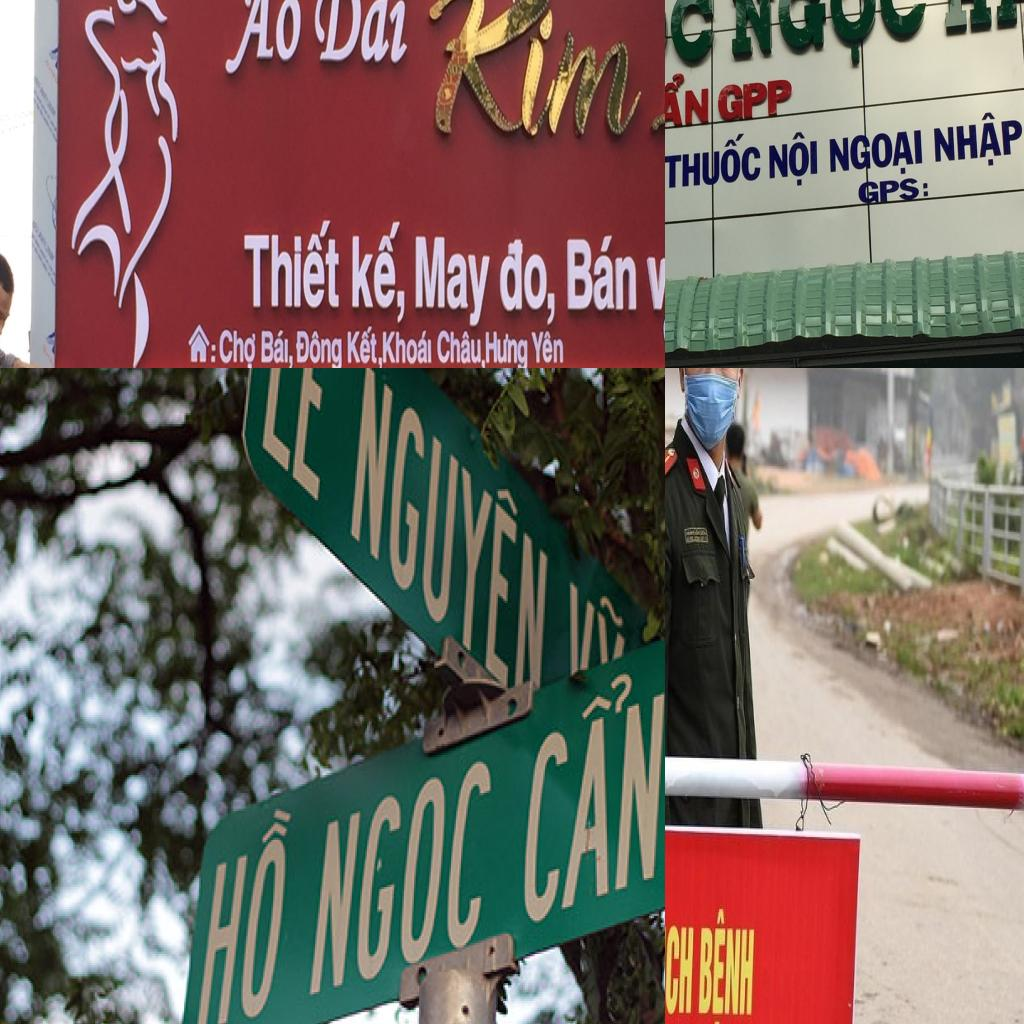text: (343, 368, 558, 701), (300, 751, 500, 1003), (521, 643, 665, 929), (413, 0, 647, 148), (182, 791, 303, 1024), (729, 0, 928, 77), (256, 368, 350, 515), (237, 215, 342, 315), (412, 232, 500, 330), (309, 0, 412, 71), (220, 0, 307, 80), (349, 214, 407, 332), (698, 907, 755, 1024), (564, 228, 638, 317), (932, 105, 1024, 172), (665, 131, 764, 191), (496, 236, 559, 328), (828, 129, 925, 178), (717, 77, 796, 125), (767, 129, 819, 189), (665, 70, 710, 138), (938, 0, 1024, 32), (665, 926, 693, 1024), (857, 176, 931, 206), (381, 328, 434, 366), (435, 329, 486, 368), (296, 328, 343, 368), (643, 236, 665, 315), (218, 325, 257, 368), (346, 323, 383, 368), (485, 330, 528, 368), (260, 326, 295, 368), (531, 329, 564, 366)
